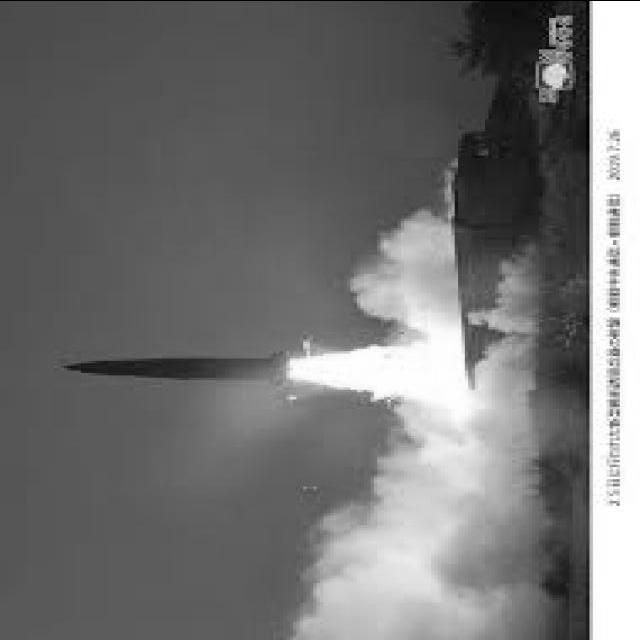Missile: (48, 343, 314, 390)
